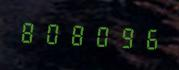eight: (17, 16, 40, 47), (66, 18, 89, 49)
nine: (114, 21, 137, 52)
six: (138, 22, 161, 53)
zero: (41, 17, 64, 48), (90, 20, 113, 51)
